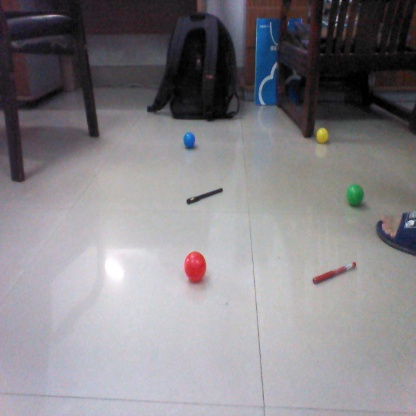ball: (180, 251, 208, 281), (344, 183, 368, 208), (314, 127, 336, 143), (179, 128, 198, 146)
pen: (312, 258, 361, 285), (185, 184, 224, 206)
